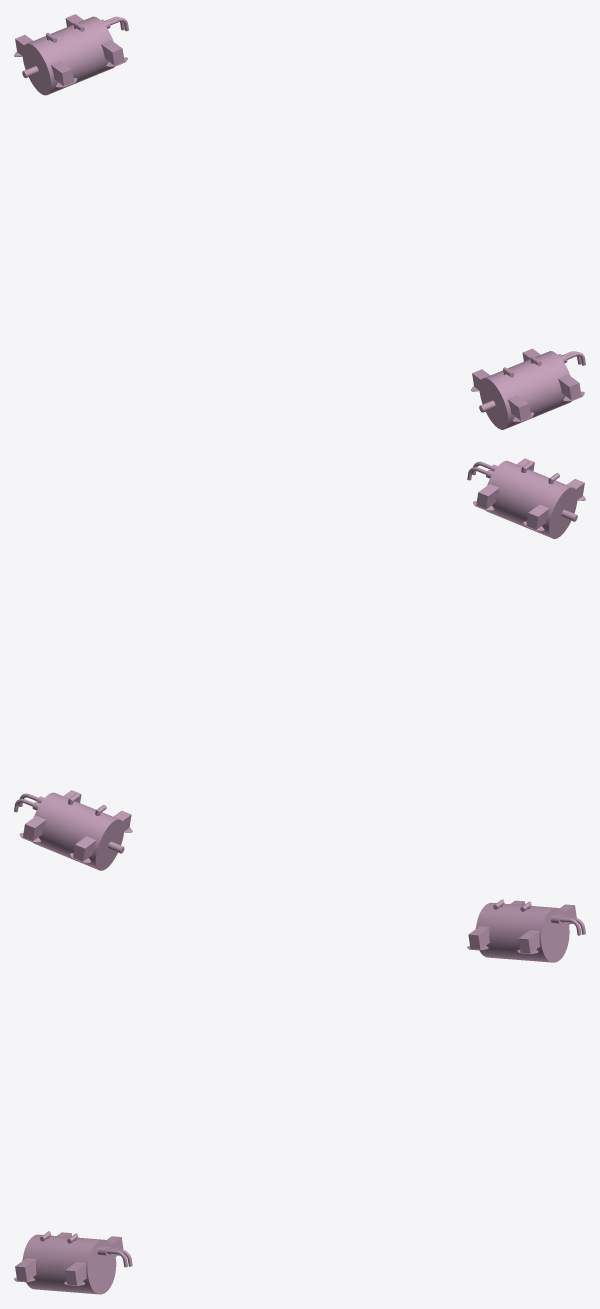
The model's file is PROPULSION__20W Bell Marine Motor__SIMPLIFIED 20W Bell surfs.glb.
The picture shows the model from 3 angles, top to bottom: view 1: azimuth 30°, elevation 25°; view 2: azimuth 150°, elevation 25°; view 3: azimuth 330°, elevation 25°; orthographic projection.
Visible parts, largest first — view 1: SIMPLIFIED 20W Bell surfs; view 2: SIMPLIFIED 20W Bell surfs; view 3: SIMPLIFIED 20W Bell surfs.
Boxes of the visible parts, x1,y1,x2,y2 form: SIMPLIFIED 20W Bell surfs: (14,14,585,429); SIMPLIFIED 20W Bell surfs: (14,458,585,870); SIMPLIFIED 20W Bell surfs: (14,899,585,1294).
Size of the model in its own units: 0.6097 by 0.3437 by 5.05.
